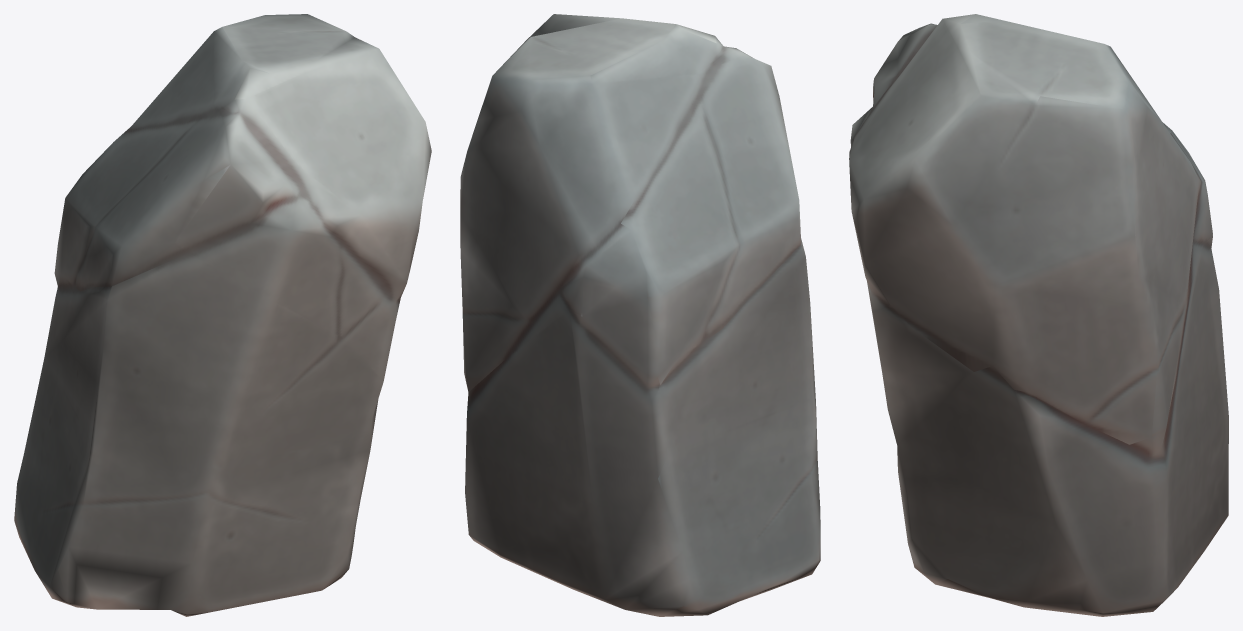
Rendered from ROK0110018.fbx.
The picture shows the model from 3 angles, left to right: view 1: azimuth 30°, elevation 25°; view 2: azimuth 150°, elevation 25°; view 3: azimuth 270°, elevation 25°; orthographic projection. The views are drawn at different scales.
Visible parts, largest first — view 1: smROK0110018; view 2: smROK0110018; view 3: smROK0110018.
Boxes of the visible parts, x1,y1,x2,y2 form: smROK0110018: [14, 14, 431, 616]; smROK0110018: [460, 14, 820, 616]; smROK0110018: [849, 14, 1228, 616].
Size of the model in its own units: 60.9 by 86.87 by 55.83.
Materials: 1 (1 with a texture image).
